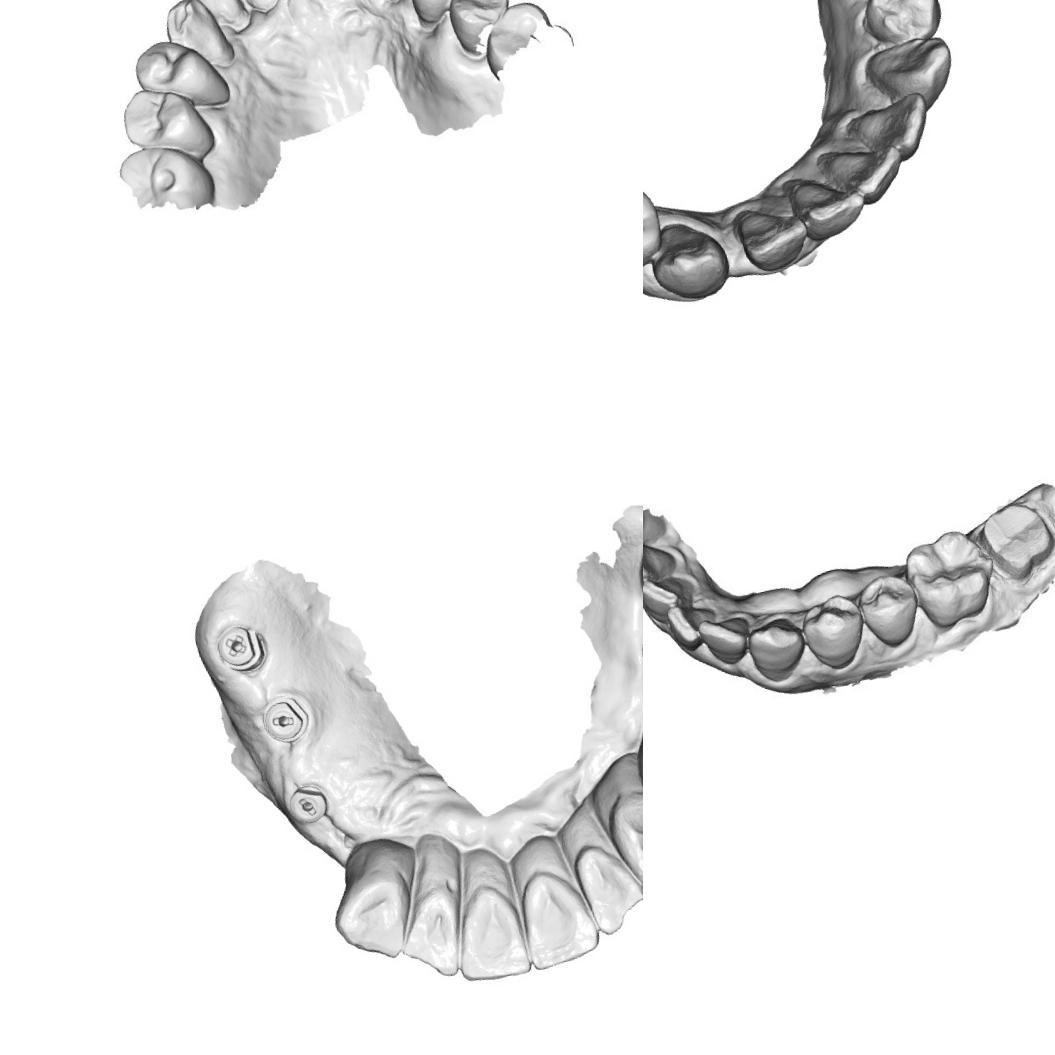canine: (321, 857, 413, 971), (644, 212, 737, 306), (863, 29, 958, 114), (159, 0, 241, 77), (739, 613, 810, 686), (600, 782, 643, 899)
crown: (972, 491, 1055, 587)
implant_minus: (253, 689, 313, 752), (282, 778, 331, 827)
implant_plus: (210, 620, 270, 674)
incisor: (511, 858, 609, 973), (441, 881, 534, 990), (389, 884, 468, 986), (571, 834, 643, 942), (735, 192, 810, 274), (791, 168, 873, 243), (829, 140, 912, 206), (854, 90, 933, 158), (698, 610, 756, 672), (664, 599, 719, 656), (177, 0, 249, 33), (643, 572, 691, 621), (643, 531, 680, 587)
molar: (900, 526, 1001, 635)
premolar: (118, 82, 212, 165), (132, 32, 219, 116), (794, 588, 869, 674), (852, 566, 924, 654), (854, 0, 944, 50), (446, 0, 512, 49), (643, 173, 668, 282), (404, 0, 474, 23)
